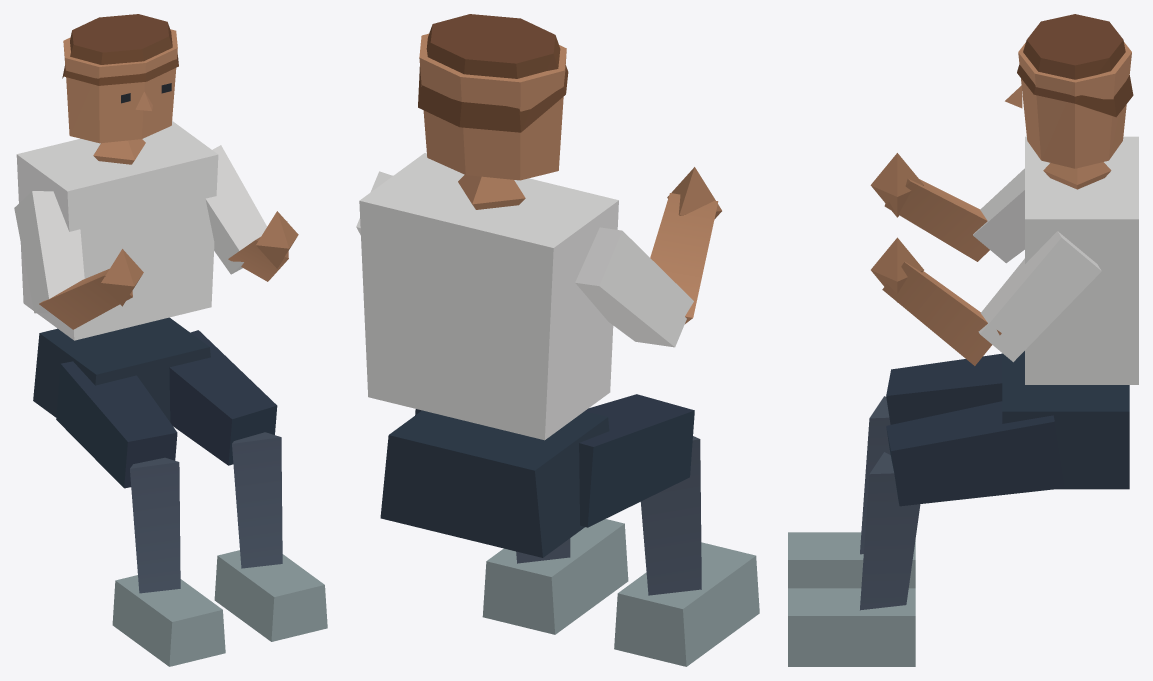
Rendered from fan-03.glb.
3 renders of one model, left to right at view 1: azimuth 30°, elevation 25°; view 2: azimuth 150°, elevation 25°; view 3: azimuth 270°, elevation 25°, orthographic. The views are drawn at different scales.
Visible parts, largest first — view 1: fan-03; view 2: fan-03; view 3: fan-03.
Part boxes in pixels (x1=…): fan-03: x1=14, y1=14, x2=327, y2=666; fan-03: x1=356, y1=14, x2=759, y2=666; fan-03: x1=788, y1=14, x2=1138, y2=666.
Bounding box in the file's own units: 0.6609 × 1.41 × 0.77.
